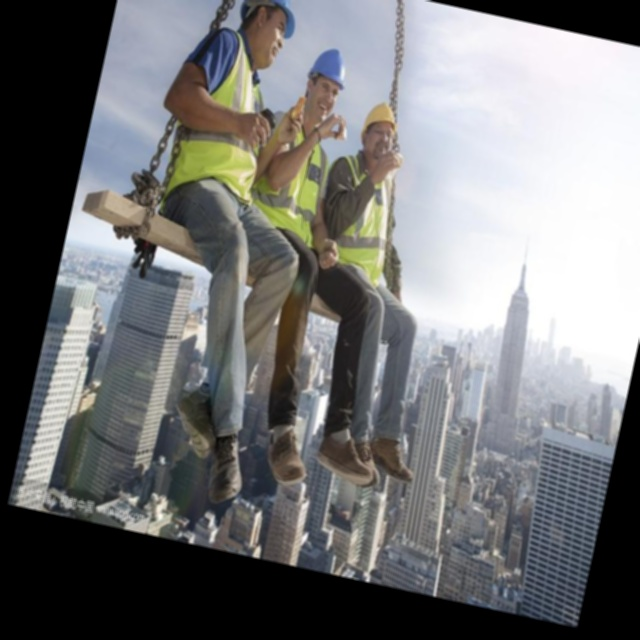Con_Casco: (235, 0, 303, 69), (297, 43, 353, 118), (359, 99, 401, 153)
Con_Chaleco: (167, 38, 283, 201), (310, 143, 412, 283), (248, 107, 339, 241)
